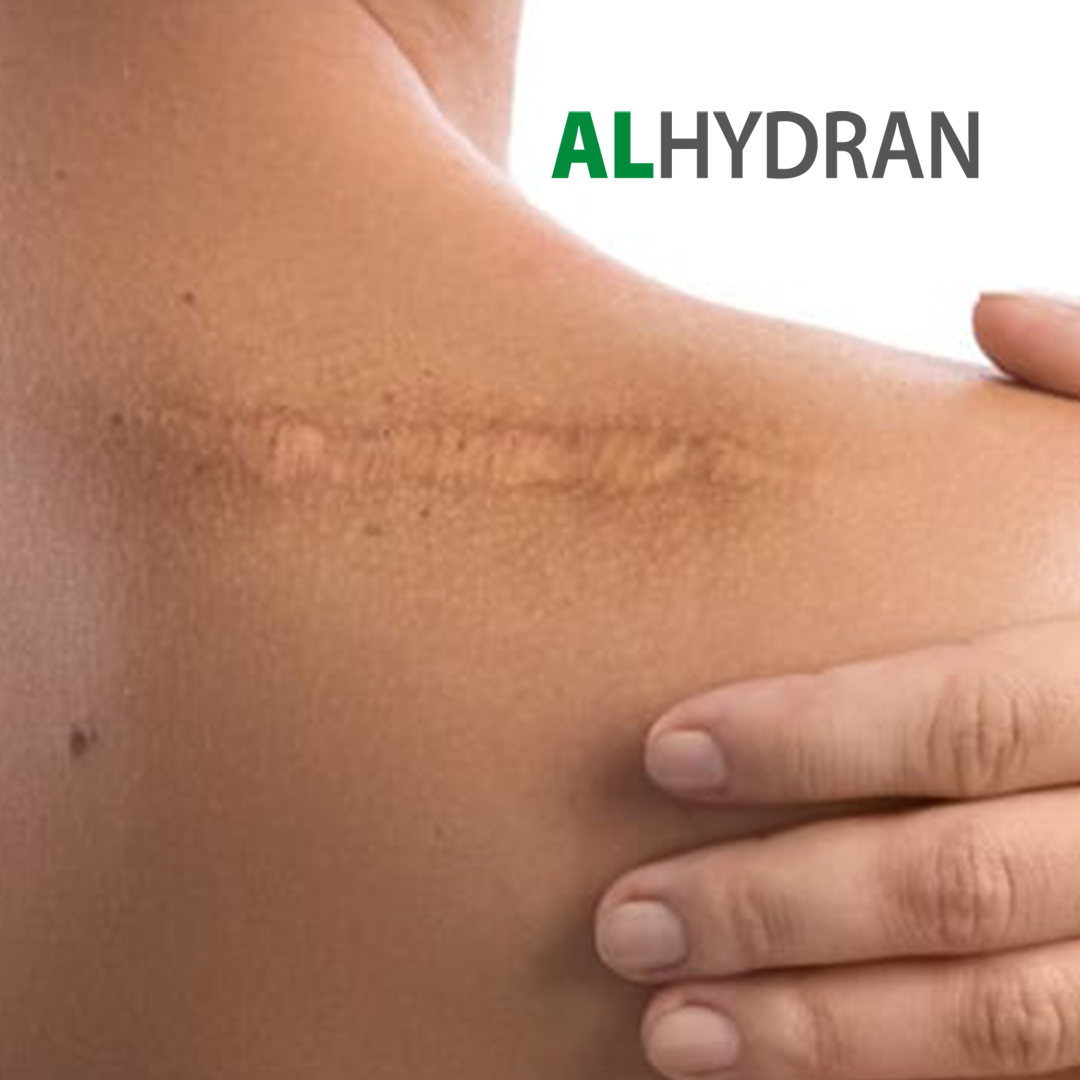scar: (117, 387, 774, 527)
